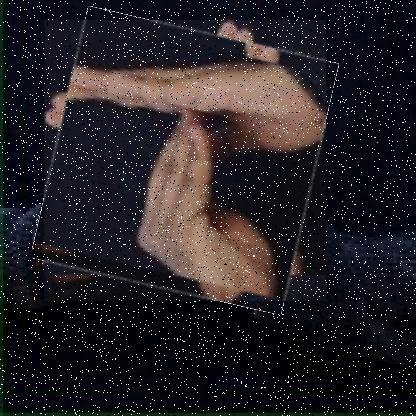Z: (43, 20, 326, 302)
